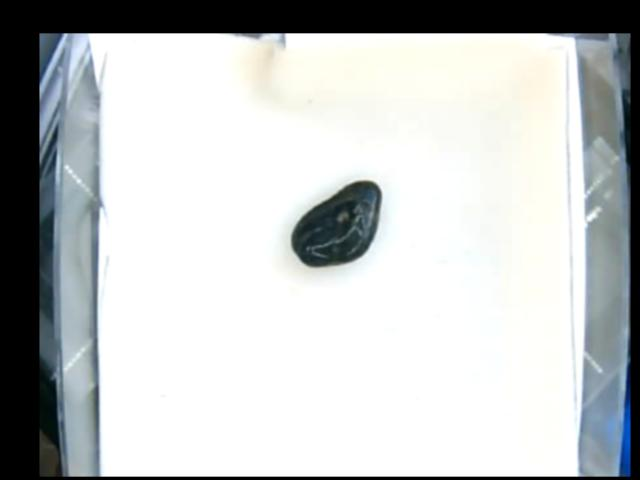Pebble: (289, 179, 382, 268)
